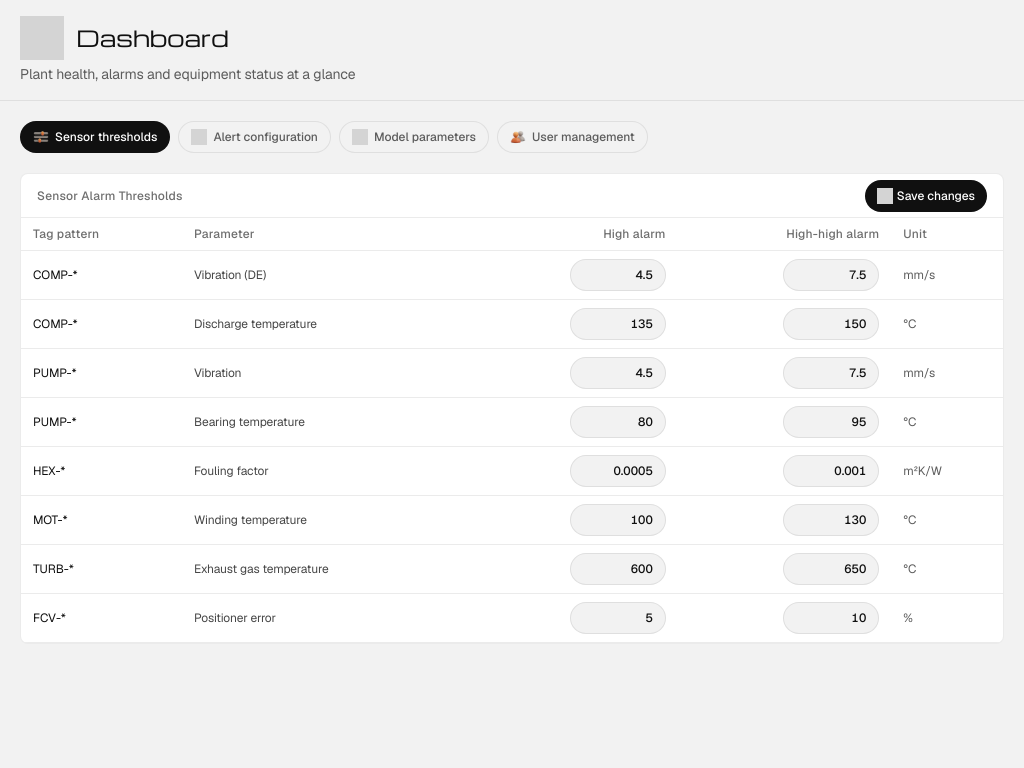
it: Settings thresholds › keep typed values while switching tabs
Replace the text in the field named "COMP-* Vibration (DE) high alarm" with "4.9" at (618, 275), box [570,259,666,291]
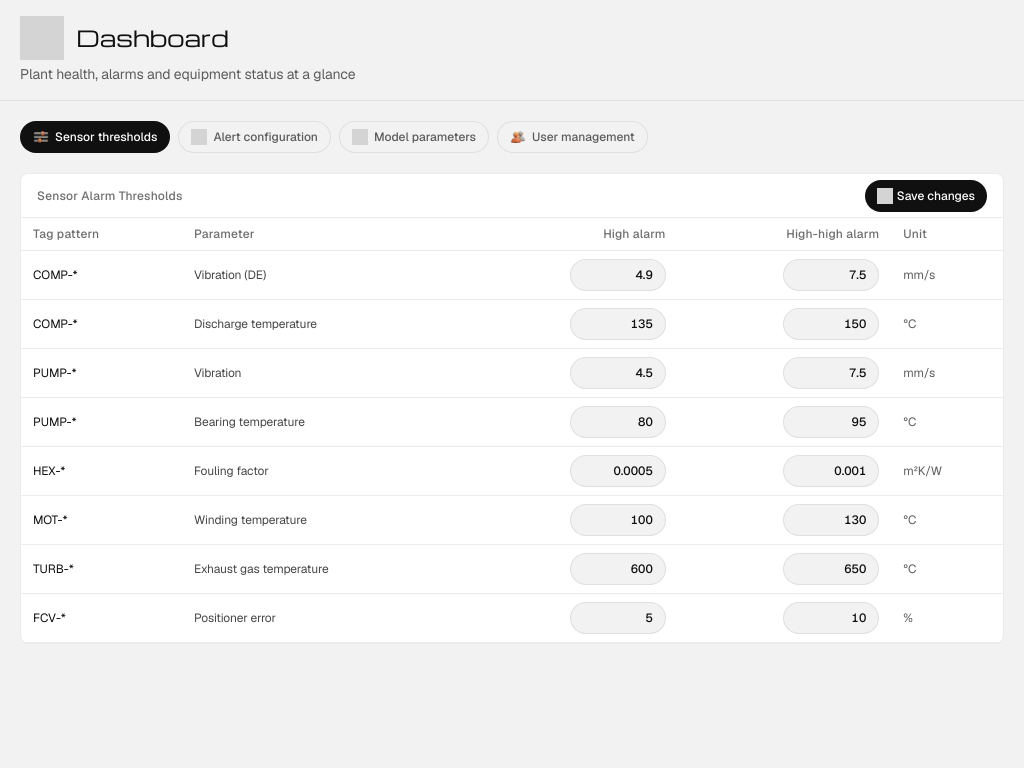
Click the button "Alert configuration" at (255, 137), box [178,121,331,153]
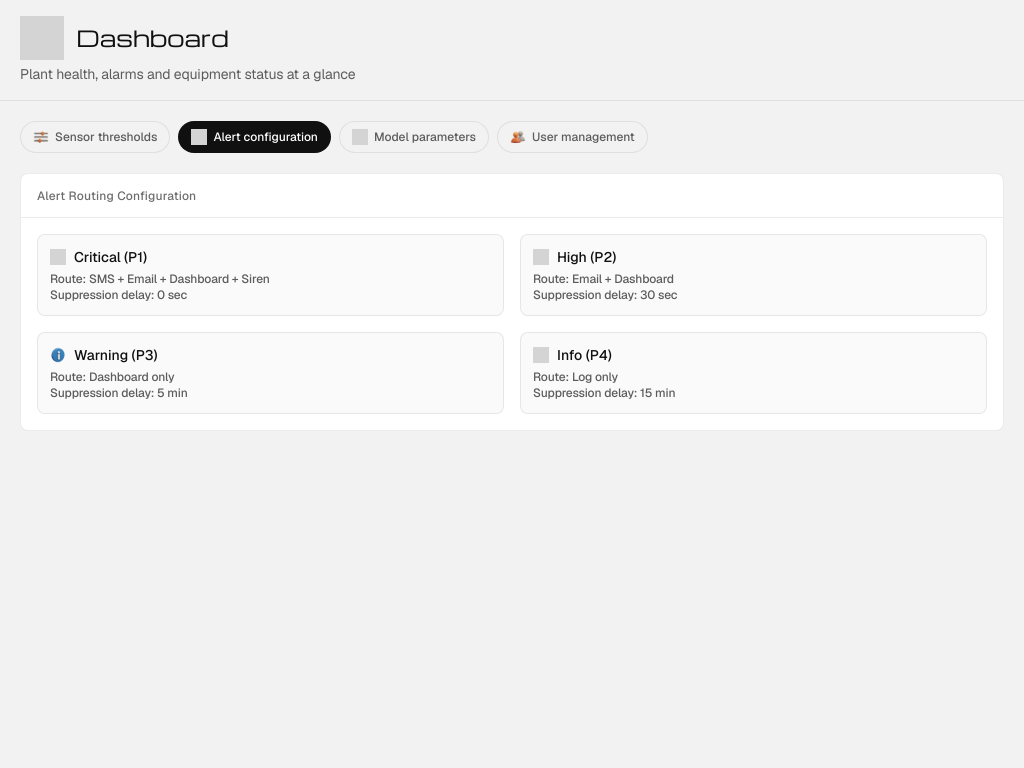
Click the button "Sensor thresholds" at (95, 137), box [20,121,170,153]
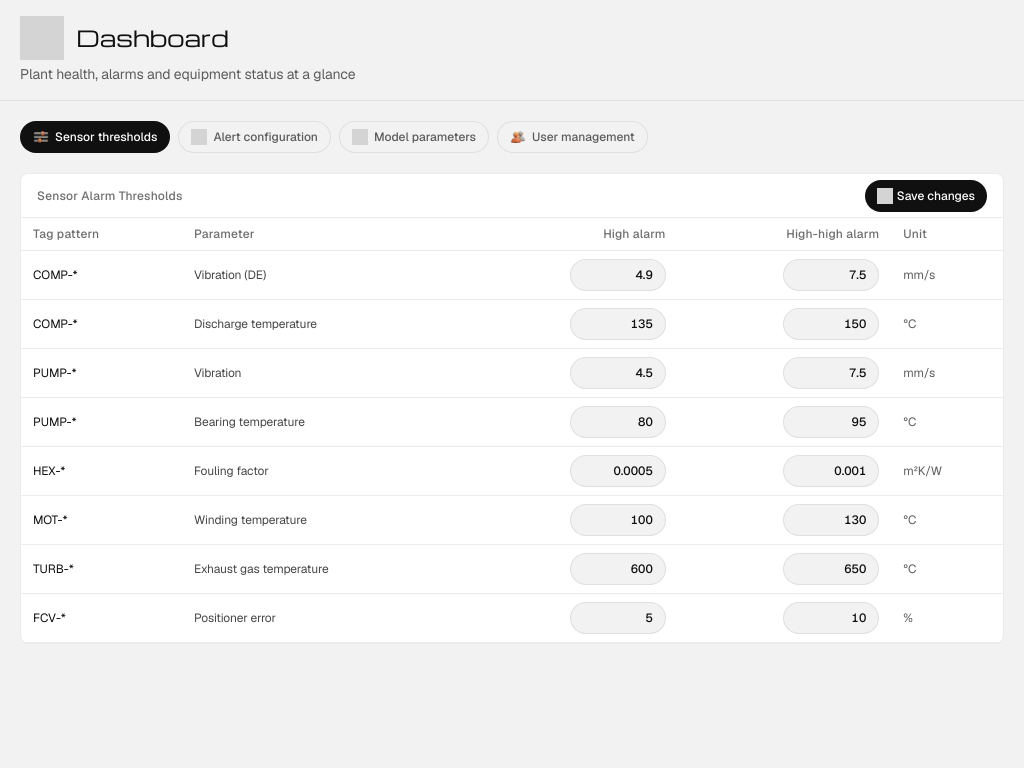
Result: the field named "COMP-* Vibration (DE) high alarm" holds "4.9" at [570,259,666,291]
